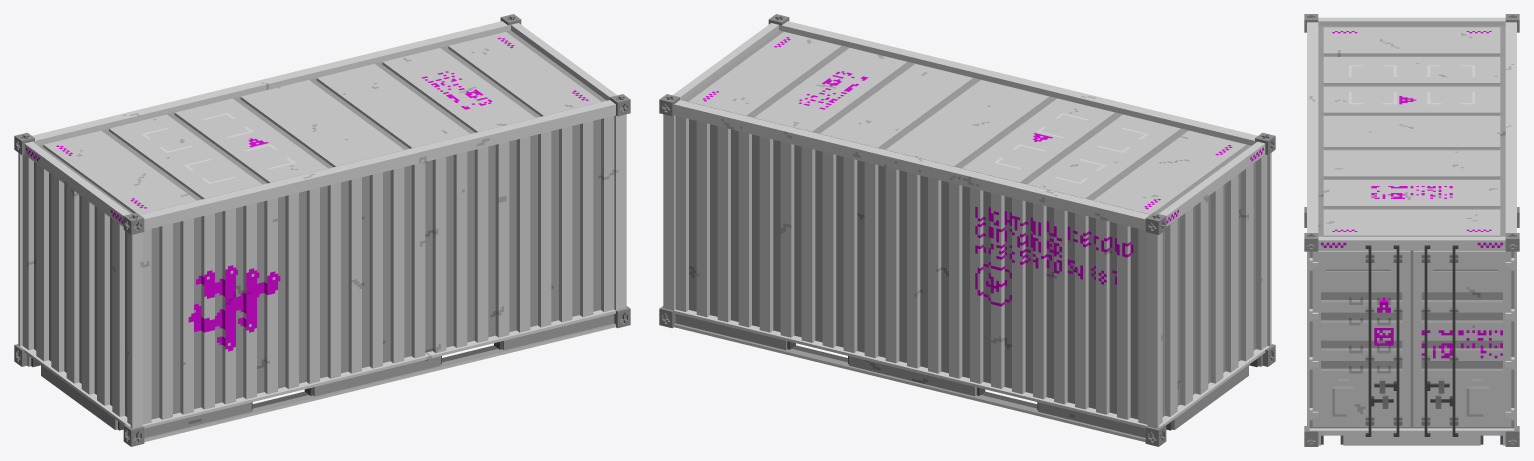
Rendered from voxelContainer.dae.
3 views of the same model, side by side, from view 1: azimuth 30°, elevation 25°; view 2: azimuth 150°, elevation 25°; view 3: azimuth 270°, elevation 25° (orthographic). The views are drawn at different scales.
Visible parts, largest first — view 1: Cube; view 2: Cube; view 3: Cube.
Boxes of the visible parts, x1,y1,x2,y2 form: Cube: (14, 14, 630, 446); Cube: (659, 14, 1275, 446); Cube: (1304, 14, 1519, 446).
Bounding box in the file's own units: 190 × 77 × 82.
